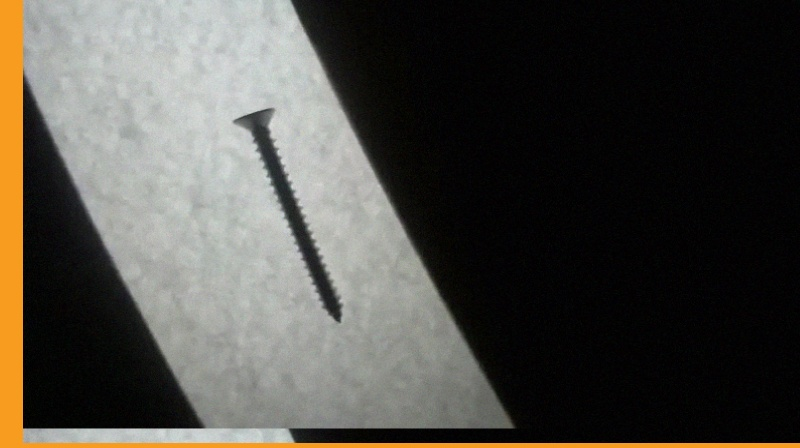S002: (226, 101, 344, 324)
